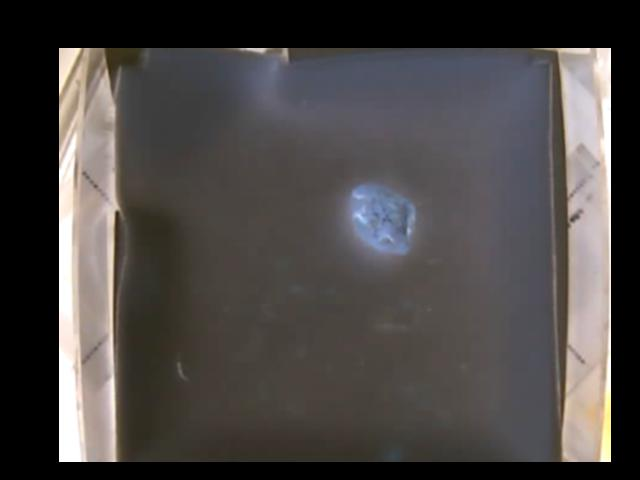Pebble: (349, 184, 414, 252)
